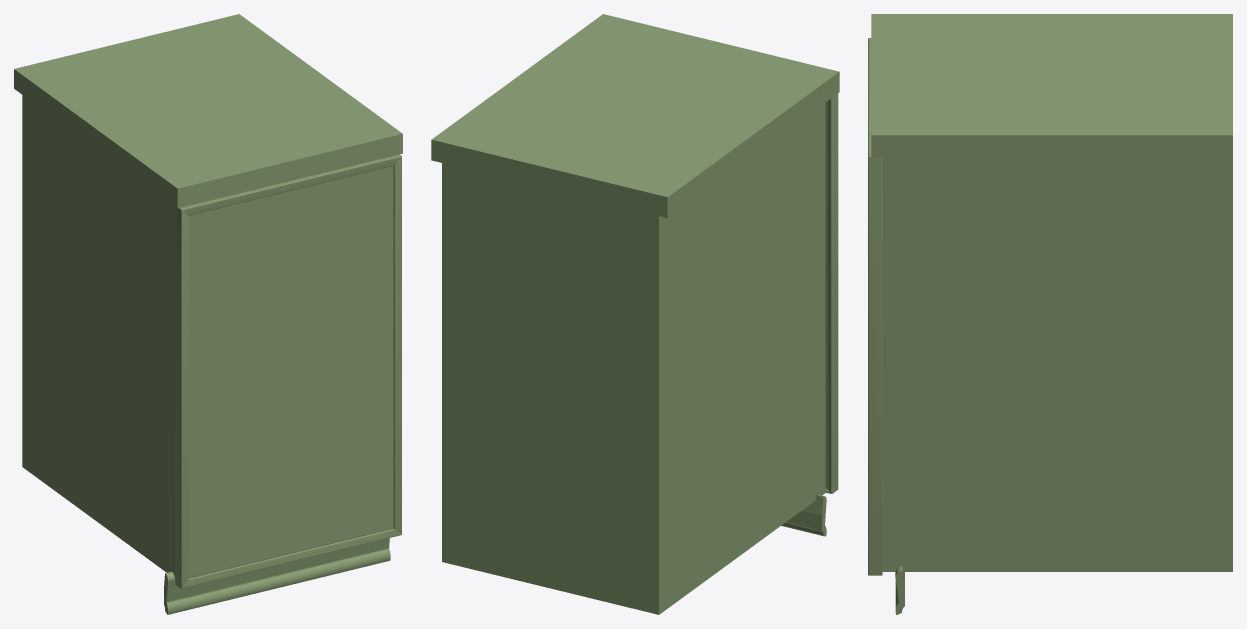
Rendered from default_bottom.gltf.
3 renders of one model, left to right at view 1: azimuth 30°, elevation 25°; view 2: azimuth 150°, elevation 25°; view 3: azimuth 270°, elevation 25°, orthographic. The views are drawn at different scales.
Parts seen in each view (by area): view 1: Box8222913, Rectangle040, Box8222915, Rectangle067, SPR-5052; view 2: Rectangle040, Box8222915, Rectangle067, Box8222913, SPR-5052; view 3: Rectangle040, Box8222915, Rectangle067.
Part boxes in pixels (<box>): Box8222913: <box>188,166,393,577</box>; Rectangle040: <box>22,95,175,578</box>; Box8222915: <box>14,14,402,208</box>; Rectangle067: <box>175,154,401,588</box>; SPR-5052: <box>164,538,390,614</box>; Rectangle040: <box>442,103,825,614</box>; Box8222915: <box>431,14,839,217</box>; Rectangle067: <box>825,93,838,493</box>; Box8222913: <box>825,101,827,489</box>; SPR-5052: <box>781,494,826,536</box>; Rectangle040: <box>882,157,1232,571</box>; Box8222915: <box>871,14,1232,157</box>; Rectangle067: <box>868,38,882,575</box>.
Size of the model in its own units: 0.4767 by 0.8795 by 0.6055.
